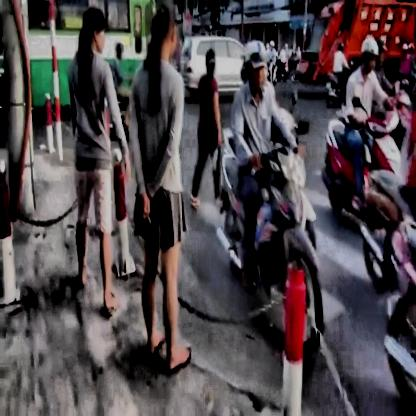not_wear: (150, 6, 180, 62), (80, 6, 107, 52)
wear: (242, 38, 268, 92), (360, 35, 380, 75), (205, 48, 218, 77)
